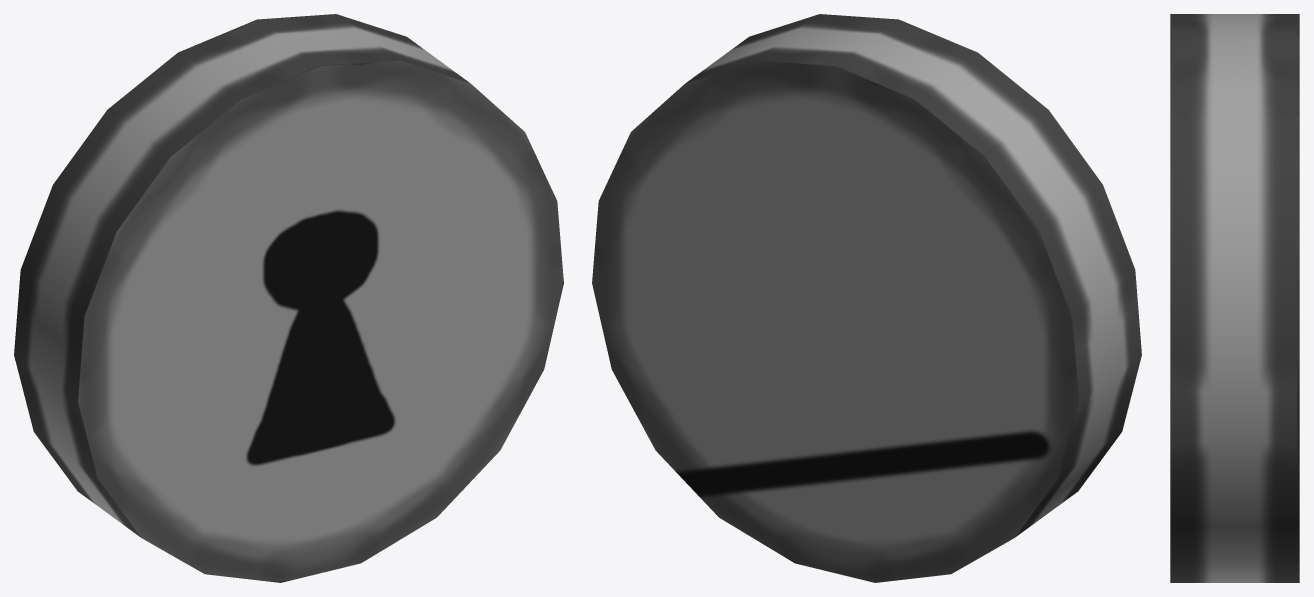
Rendered from Lock.glb.
3 views of the same model, side by side, from view 1: azimuth 30°, elevation 25°; view 2: azimuth 150°, elevation 25°; view 3: azimuth 270°, elevation 25° (orthographic).
Visible parts, largest first — view 1: Cylinder; view 2: Cylinder; view 3: Cylinder.
Boxes of the visible parts, <box> form: Cylinder: <box>14,14,563,582</box>; Cylinder: <box>592,14,1141,582</box>; Cylinder: <box>1170,14,1299,582</box>.
Size of the model in its own units: 0.1771 by 0.1765 by 0.0403.
Materials: 1 (1 with a texture image).
